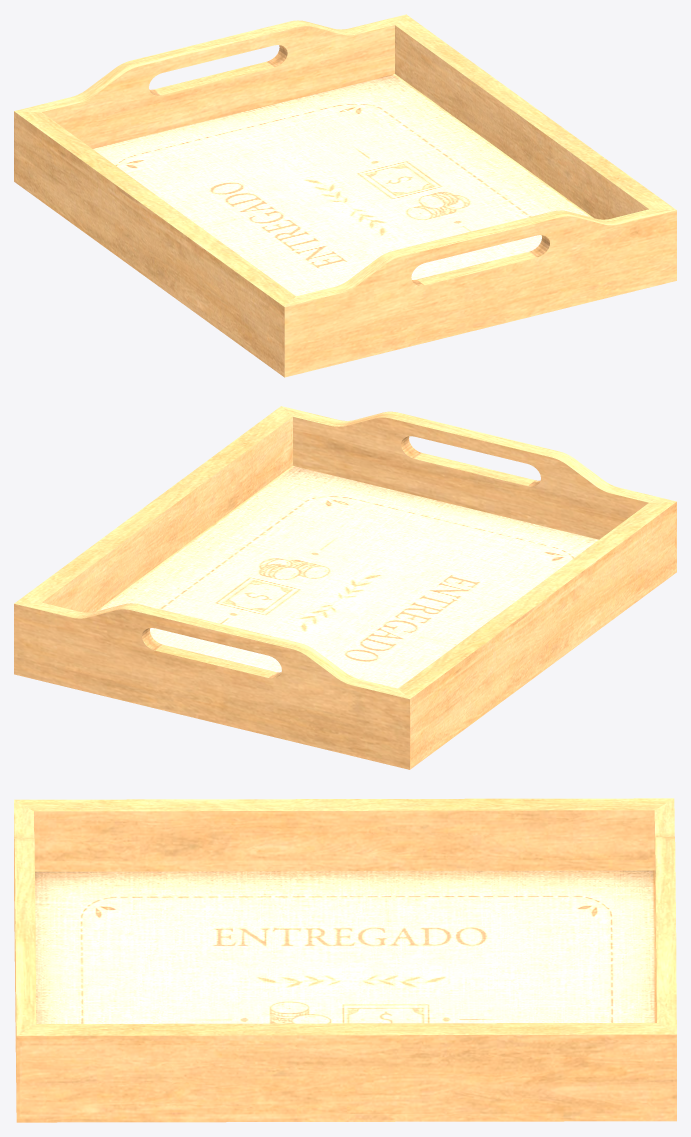
Rendered from bandeja.glb.
3 views of the same model, one above another, from view 1: azimuth 30°, elevation 25°; view 2: azimuth 150°, elevation 25°; view 3: azimuth 270°, elevation 25° (orthographic). The views are drawn at different scales.
Visible parts, largest first — view 1: Object_2; view 2: Object_2; view 3: Object_2.
Part boxes in pixels (x1,y1,x2,y2): Object_2: (14,14,676,377); Object_2: (14,406,676,769); Object_2: (14,798,676,1122).
Bounding box in the file's own units: 0.2232 × 0.0497 × 0.2633.
1 material, 1 textured.
